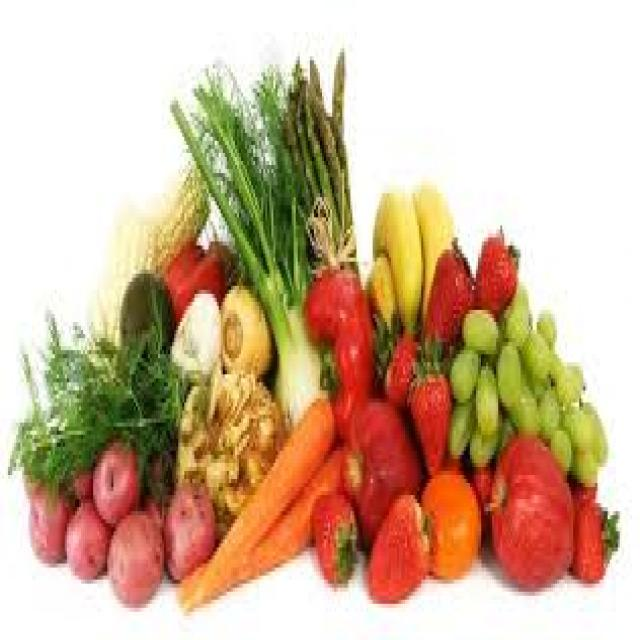organic waste: (170, 56, 334, 427), (6, 306, 182, 507), (184, 394, 334, 612), (178, 438, 365, 596), (170, 367, 288, 548), (278, 44, 354, 266), (486, 426, 571, 592), (338, 394, 421, 552), (302, 262, 371, 430), (365, 181, 421, 354), (132, 157, 206, 270), (101, 483, 164, 608), (364, 487, 426, 600), (419, 463, 478, 580), (162, 237, 239, 322), (214, 274, 276, 378), (407, 326, 448, 475), (421, 234, 470, 350), (164, 475, 213, 580), (415, 185, 452, 318), (369, 310, 419, 406), (116, 270, 170, 358), (87, 431, 140, 519), (164, 290, 219, 374), (567, 495, 618, 584), (310, 487, 354, 588), (24, 479, 75, 564), (61, 499, 109, 580), (448, 459, 492, 547), (470, 229, 516, 306), (365, 246, 399, 334), (516, 318, 549, 382), (140, 443, 170, 511), (441, 394, 474, 455), (446, 334, 476, 399), (464, 402, 494, 467), (492, 338, 519, 407), (500, 274, 527, 342), (460, 306, 498, 354), (508, 374, 537, 435), (577, 398, 604, 459), (535, 382, 559, 439), (476, 370, 494, 439), (561, 402, 587, 447), (565, 463, 593, 503), (547, 427, 571, 471), (569, 451, 596, 487), (67, 459, 91, 499), (559, 371, 581, 398), (535, 310, 553, 342), (498, 406, 512, 447), (549, 346, 561, 378)
